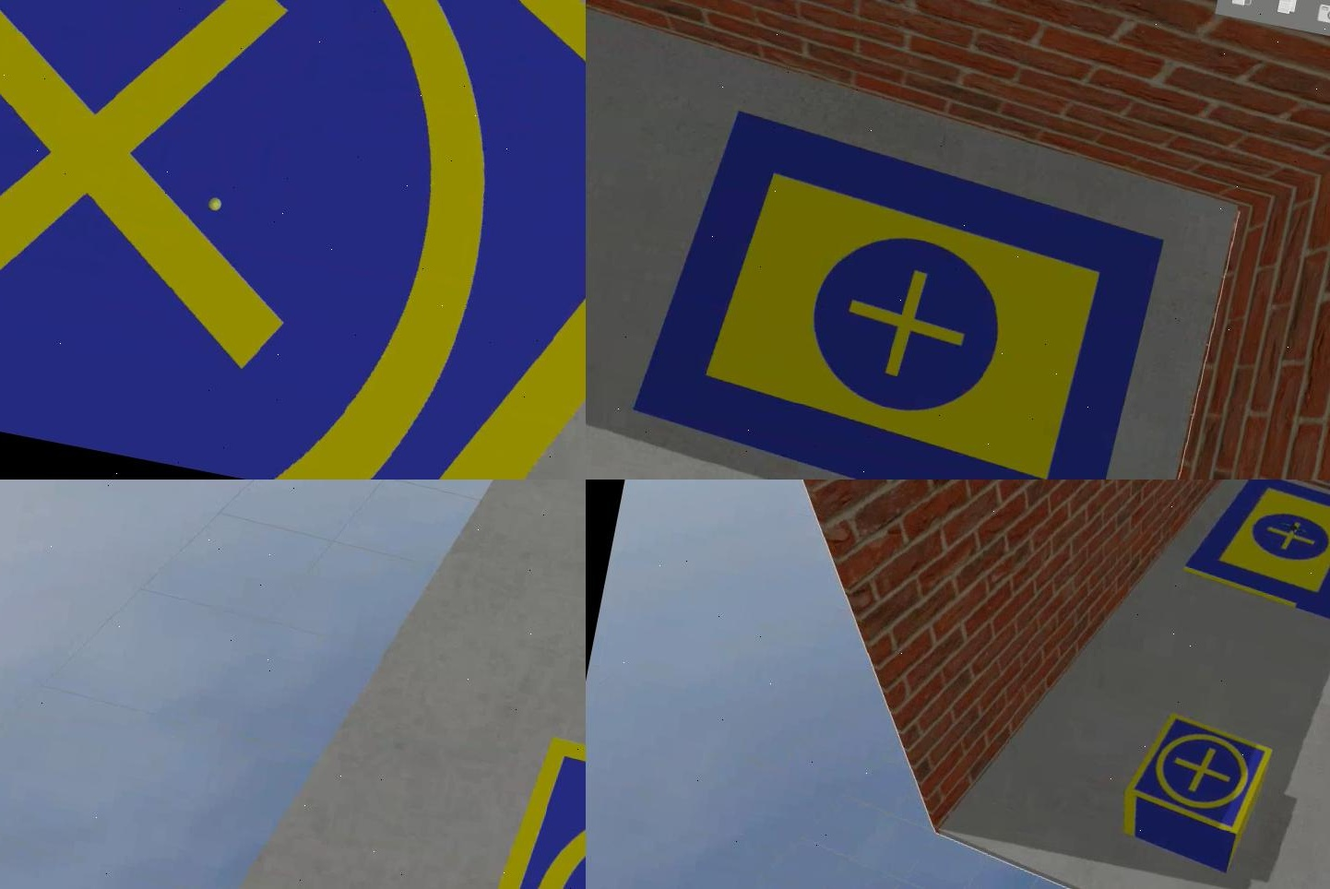large_base: (616, 99, 1175, 480), (1180, 480, 1328, 619)
small_base: (0, 1, 584, 480), (1113, 705, 1276, 849)
